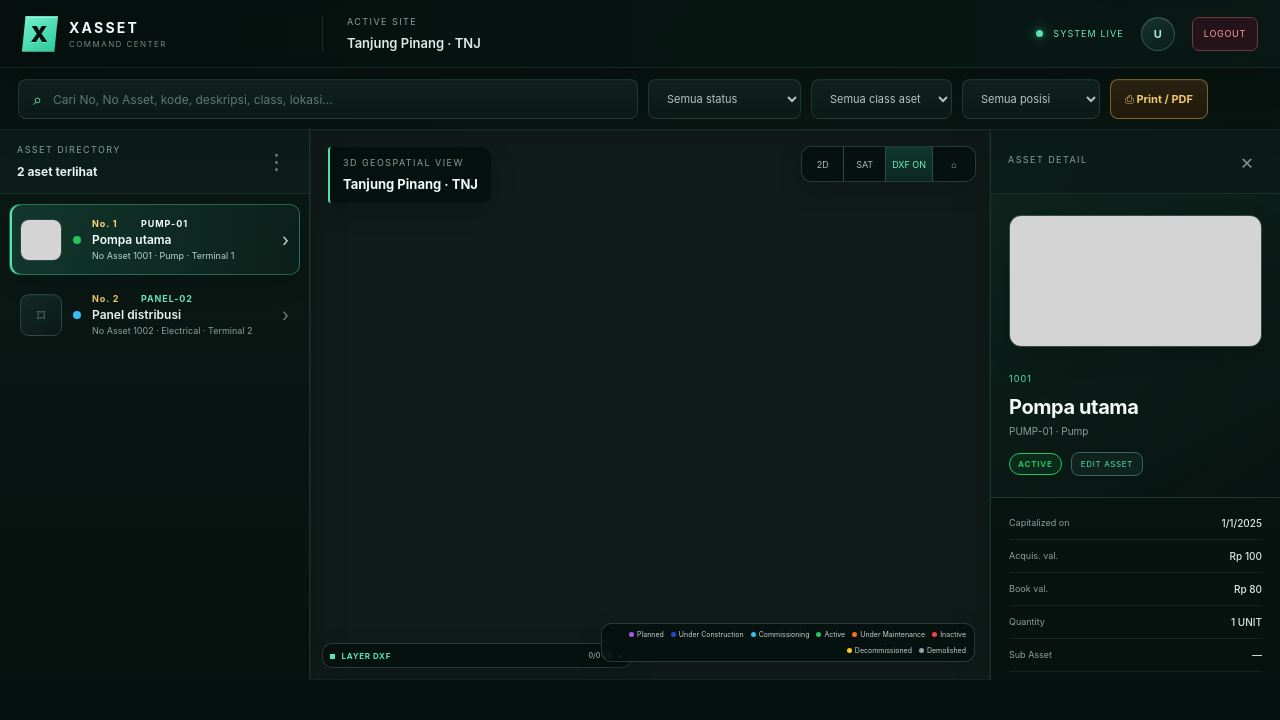
Test case: AssetDashboard list-to-map synchronization › edits the selected asset in a dashboard popup without an Upload DXF action
Click the button "Edit Asset": [1107, 464] box [1071,452,1143,476]
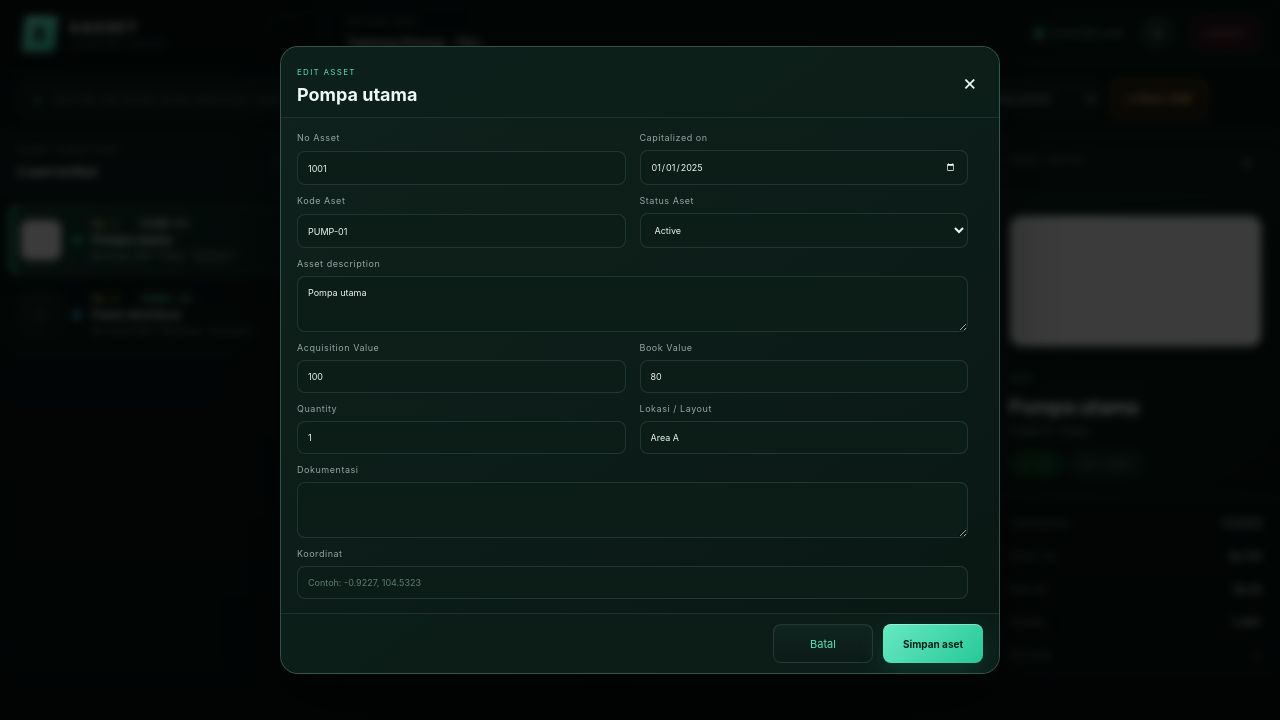
Replace the text in the text box named "description" with "Pompa utama diperbarui": [632, 304] box [297,276,968,332]
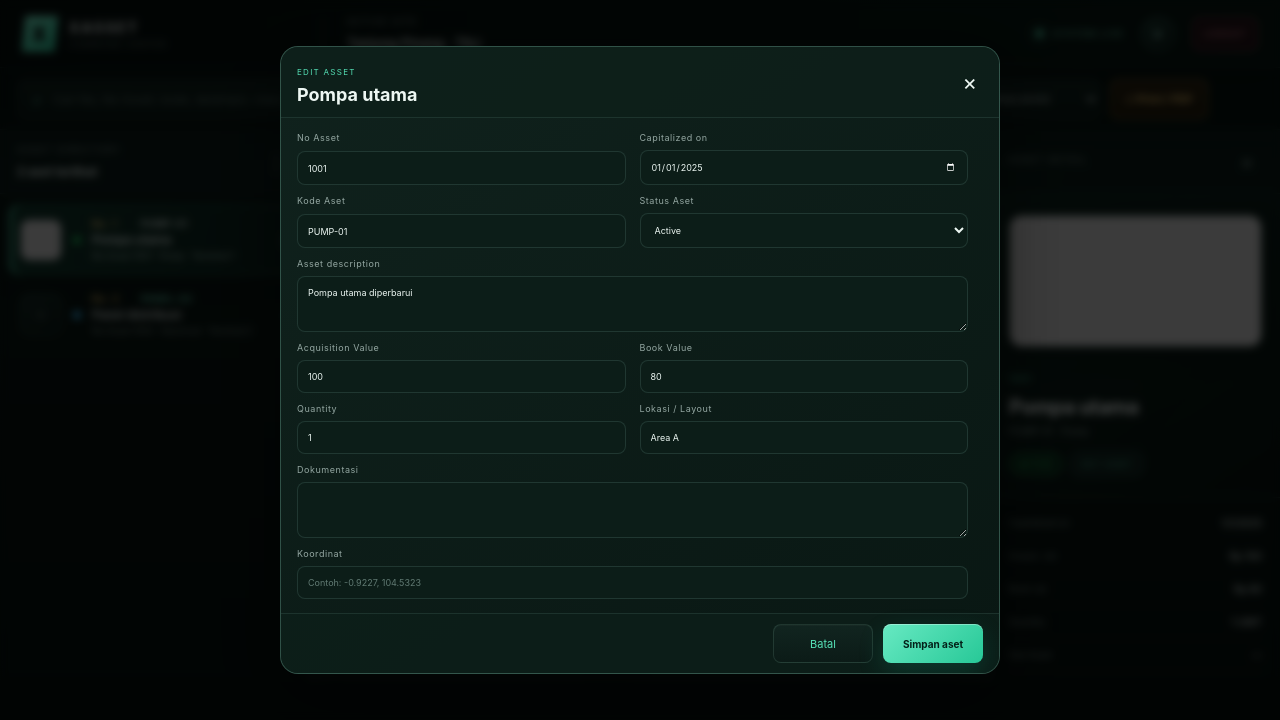
Click the button "Simpan aset": [933, 644] box [883,624,983,663]
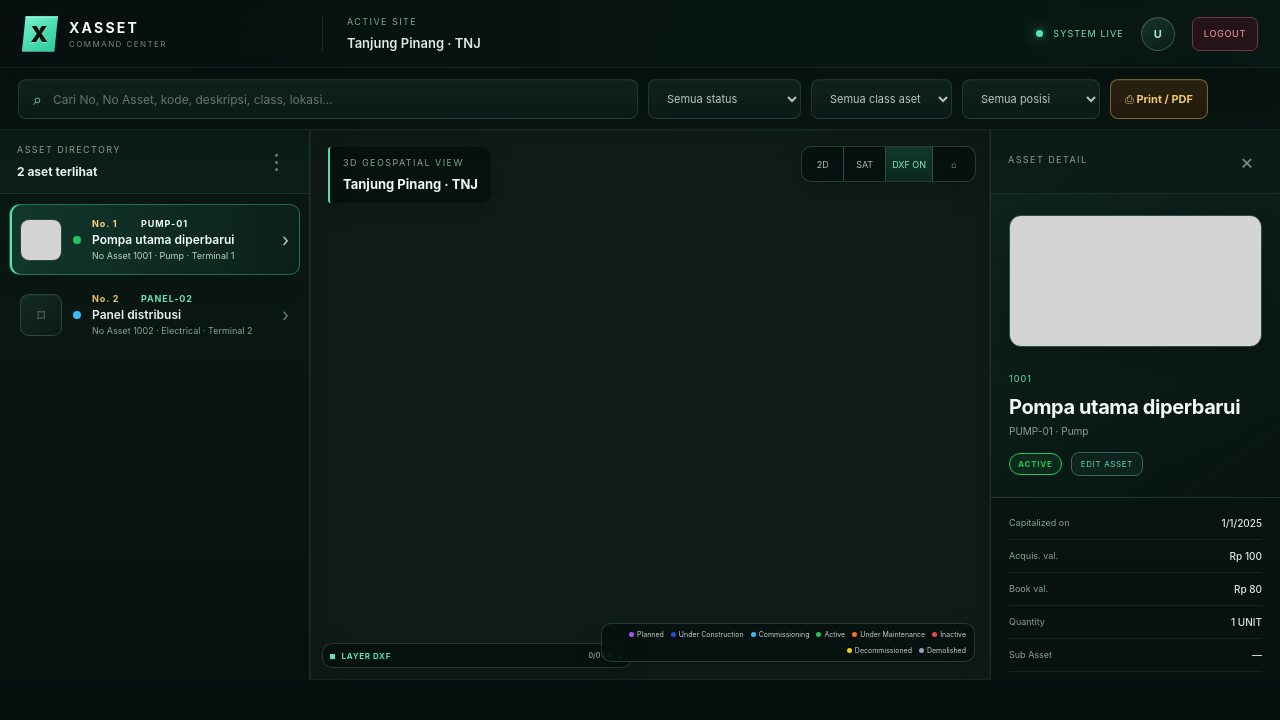
Check: the heading "Pompa utama diperbarui" is shown, box [1009,395,1262,419]
